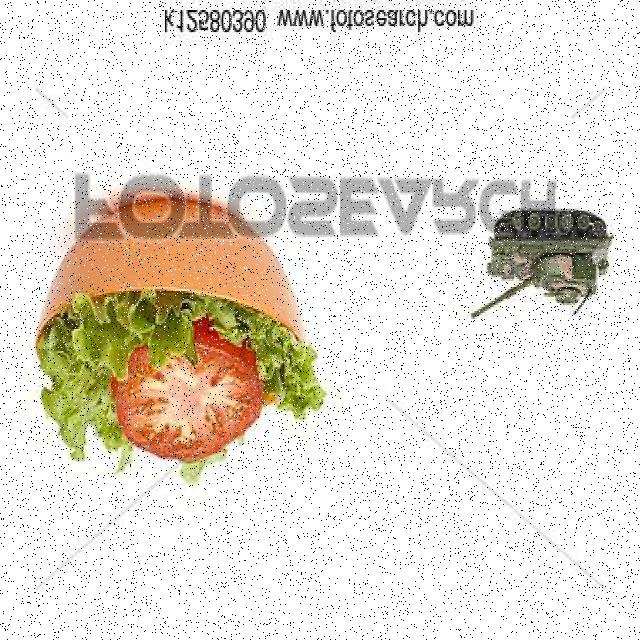MIL_MBT: (463, 189, 621, 339)
